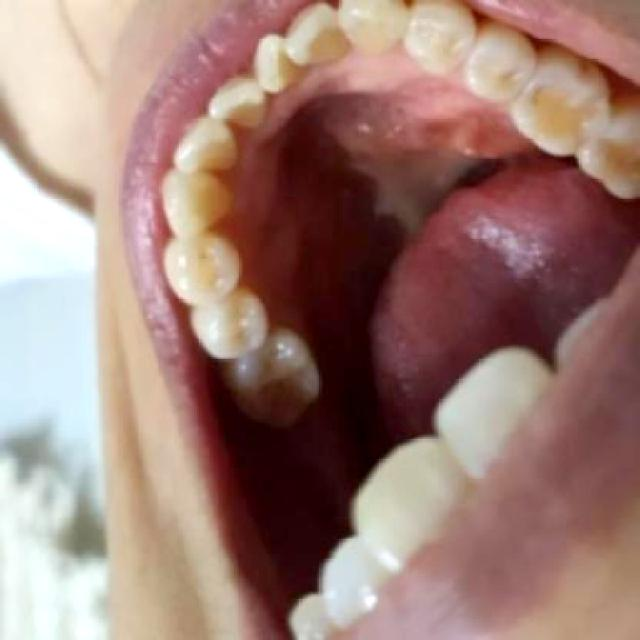Plaque: (530, 85, 551, 107), (256, 362, 279, 377), (196, 253, 214, 263)
